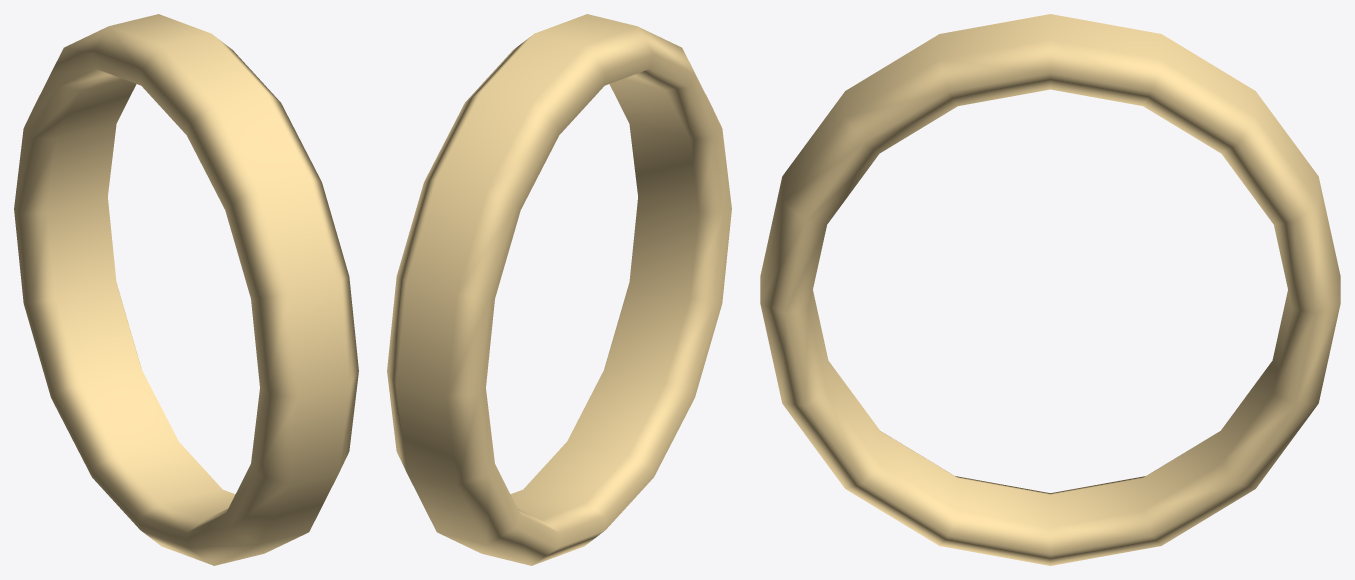
The model's file is RingGoldBand_LOD2.obj.
The picture shows the model from 3 angles, left to right: view 1: azimuth 30°, elevation 25°; view 2: azimuth 150°, elevation 25°; view 3: azimuth 270°, elevation 25°; orthographic projection. The views are drawn at different scales.
Visible parts, largest first — view 1: Gold18k; view 2: Gold18k; view 3: Gold18k.
Boxes of the visible parts, x1,y1,x2,y2 form: Gold18k: [14, 14, 358, 565]; Gold18k: [387, 14, 731, 565]; Gold18k: [760, 14, 1340, 565].
Size of the model in its own units: 0.004 by 0.0207 by 0.0207.
